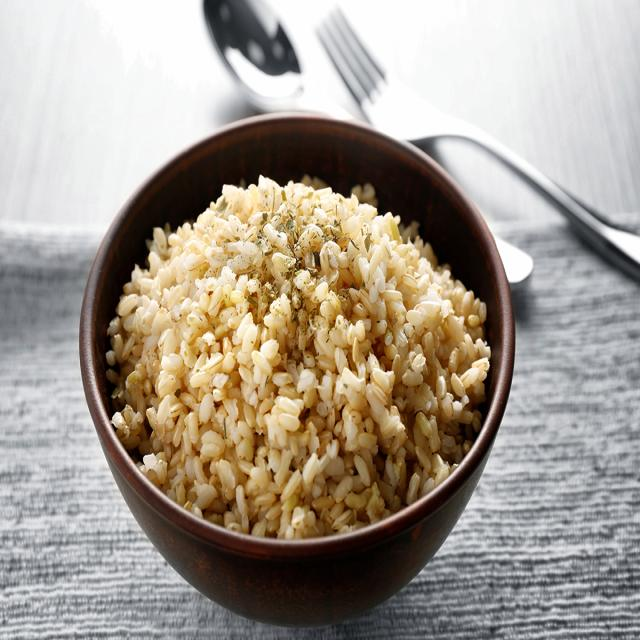arroz: (91, 167, 502, 534)
